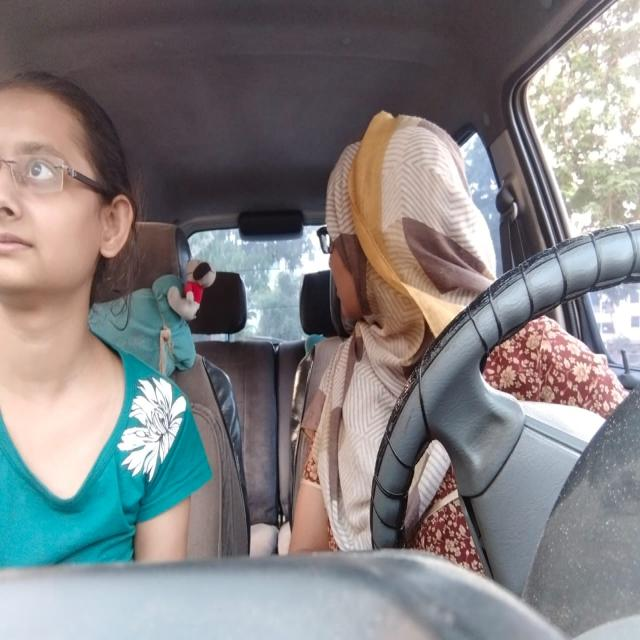LeftRight: (312, 132, 416, 320)
person: (0, 90, 135, 298)
